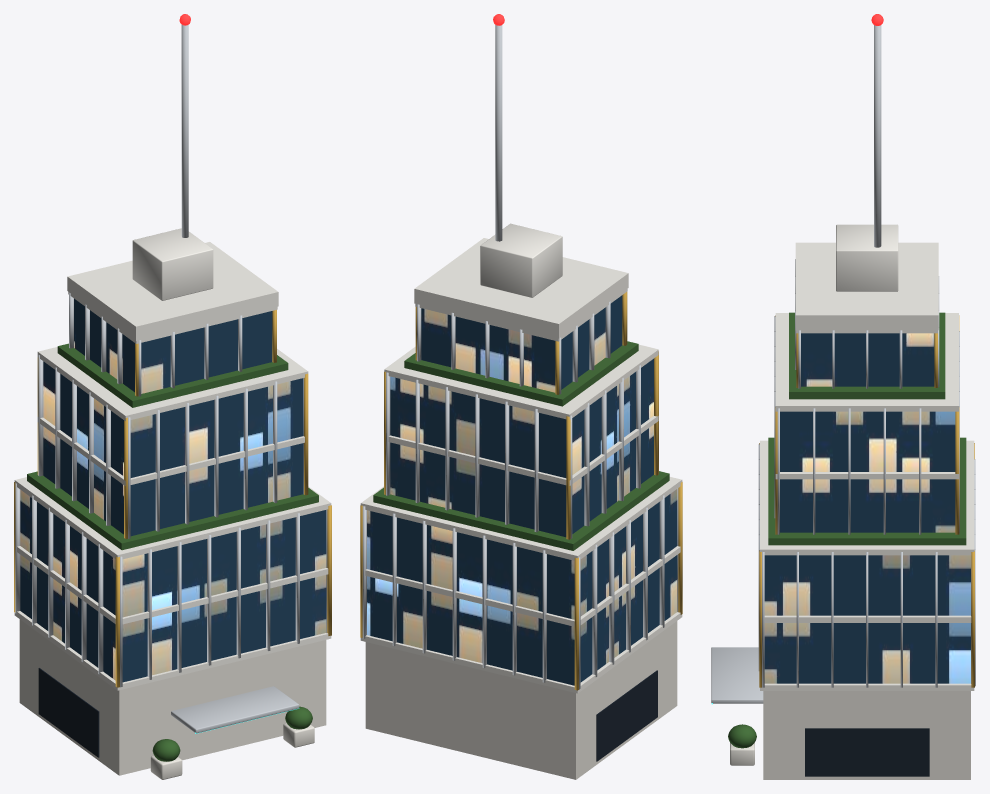
File: nexus-civic-c.glb
3 renders of one model, left to right at view 1: azimuth 30°, elevation 25°; view 2: azimuth 150°, elevation 25°; view 3: azimuth 270°, elevation 25°, orthographic. The views are drawn at different scales.
Parts seen in each view (by area): view 1: Building; view 2: Building; view 3: Building.
Boxes of the visible parts, x1,y1,x2,y2 form: Building: (14,14,331,779); Building: (360,14,682,779); Building: (711,14,975,779).
Bounding box in the file's own units: 12.44 × 38.3 × 12.72.
